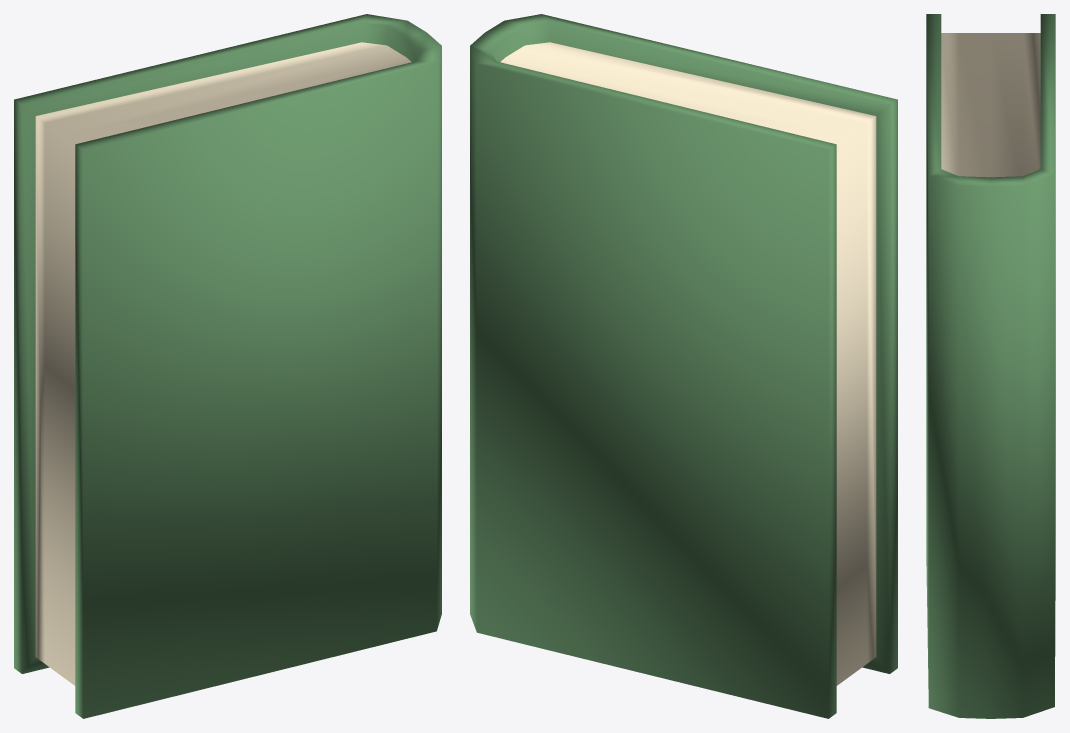
Rendered from SM_Book04.fbx.
The picture shows the model from 3 angles, left to right: view 1: azimuth 30°, elevation 25°; view 2: azimuth 150°, elevation 25°; view 3: azimuth 270°, elevation 25°; orthographic projection. The views are drawn at different scales.
Parts seen in each view (by area): view 1: Book04; view 2: Book04; view 3: Book04.
Boxes of the visible parts, x1,y1,x2,y2 form: Book04: [14, 14, 441, 718]; Book04: [470, 14, 897, 718]; Book04: [926, 14, 1055, 718].
Size of the model in its own units: 35.75 by 51.35 by 11.34.
